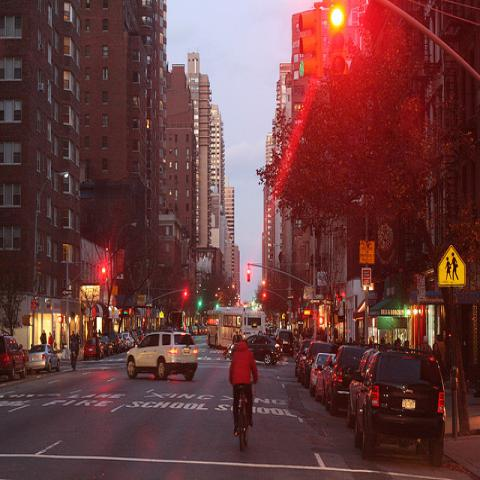bus: (207, 307, 245, 348), (246, 310, 265, 337)
car: (348, 346, 447, 466), (127, 331, 198, 380), (324, 345, 367, 415), (299, 338, 335, 388), (0, 333, 27, 382), (308, 353, 334, 397), (314, 354, 336, 404), (26, 344, 60, 374), (247, 335, 280, 365), (83, 337, 105, 361), (277, 330, 294, 356), (300, 338, 312, 357), (122, 333, 136, 348)
